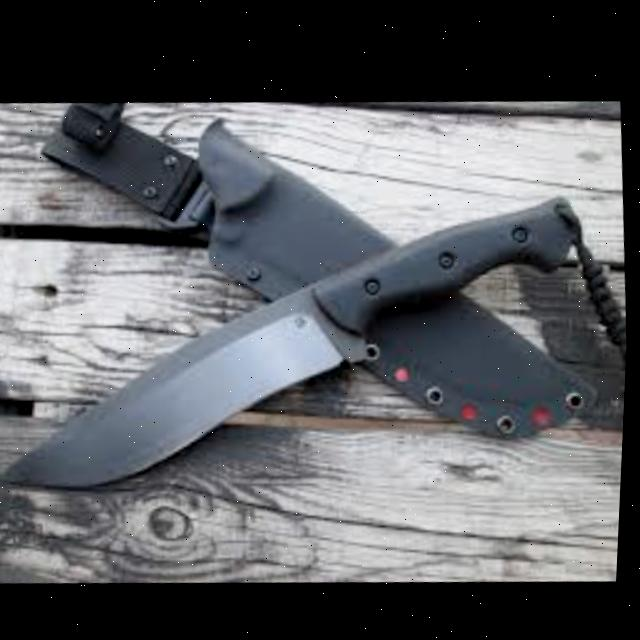knife: (0, 61, 638, 521)
